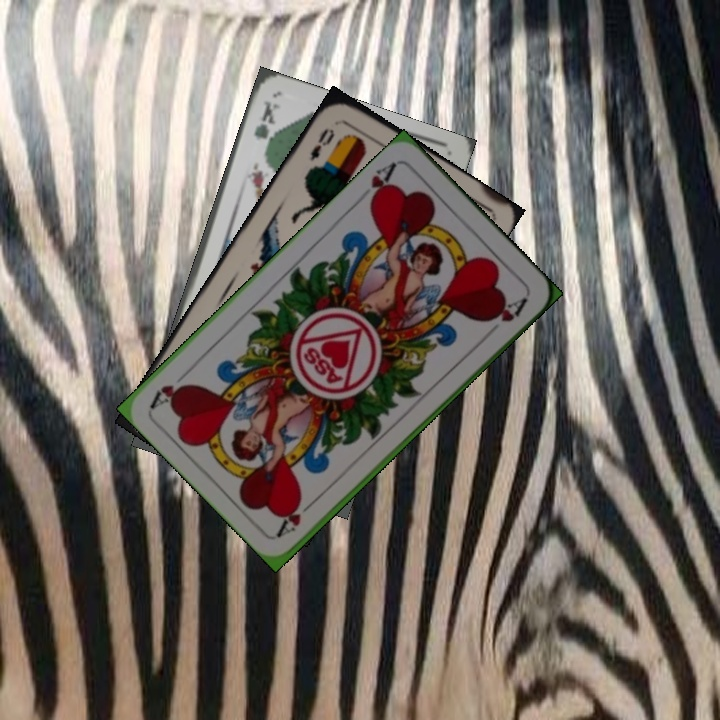EO: (306, 124, 338, 164)
GK: (250, 96, 283, 142)
HA: (273, 493, 321, 539), (364, 158, 399, 210)
